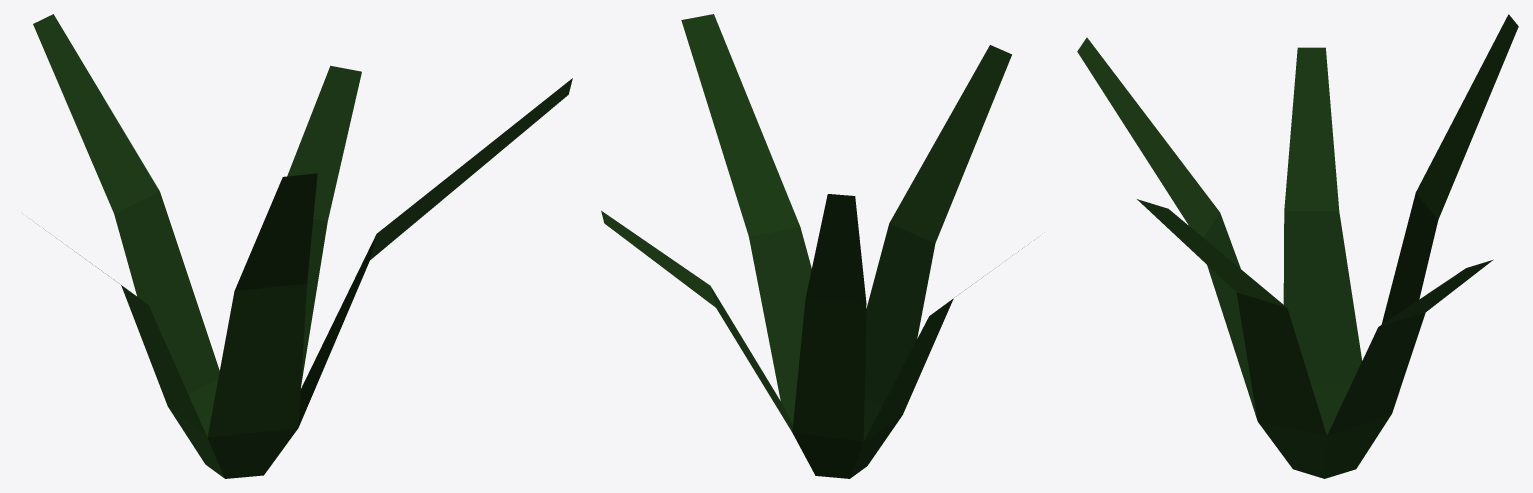
File: grassCluster.fbx
3 views of the same model, side by side, from view 1: azimuth 30°, elevation 25°; view 2: azimuth 150°, elevation 25°; view 3: azimuth 270°, elevation 25° (orthographic). The views are drawn at different scales.
Visible parts, largest first — view 1: grassCluster; view 2: grassCluster; view 3: grassCluster.
Part boxes in pixels (x1,y1,x2,y2): grassCluster: (33,14,572,478); grassCluster: (601,14,1028,478); grassCluster: (1077,14,1518,478).
Size of the model in its own units: 62.75 by 50.67 by 50.2.
